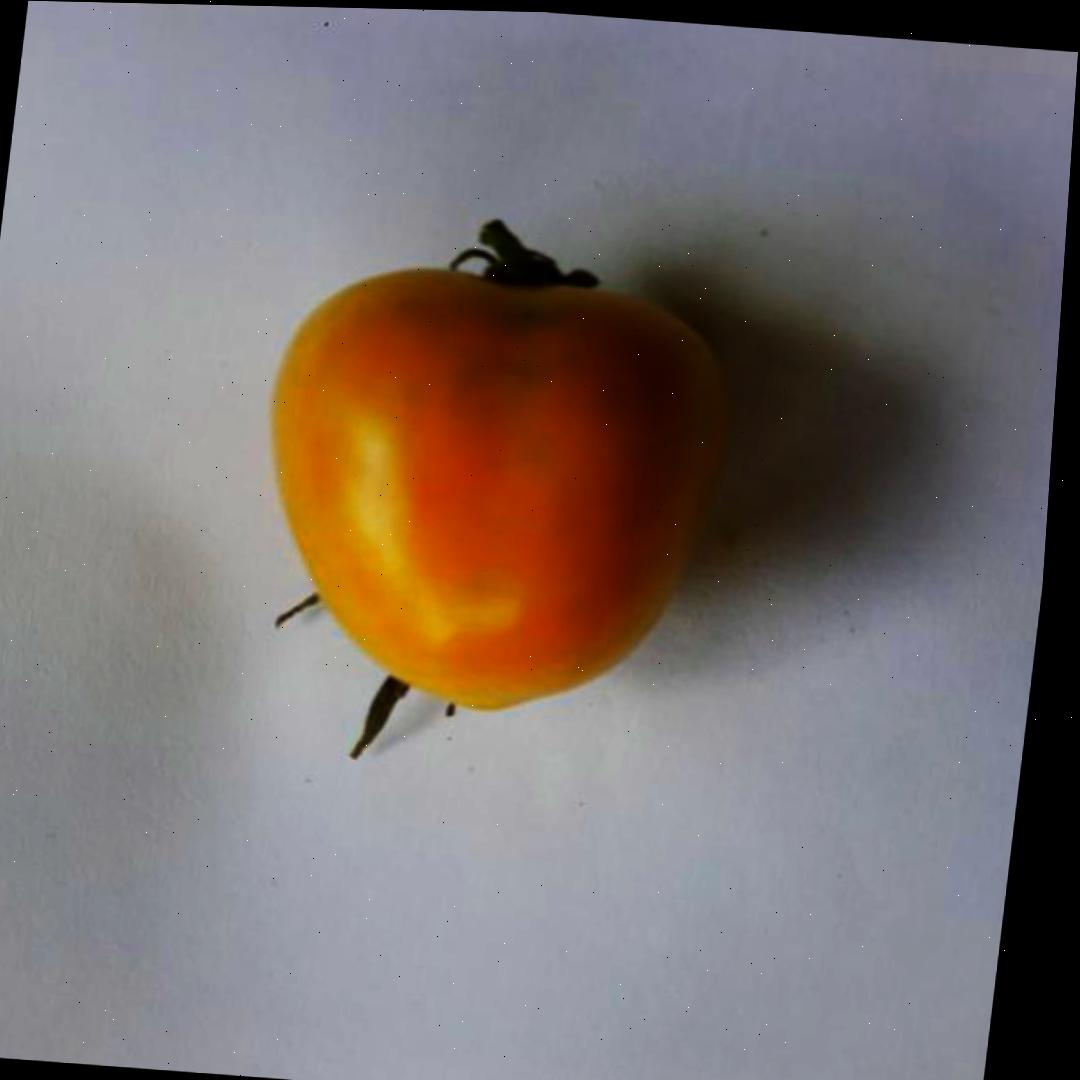setengah_matang: (232, 253, 749, 729)
